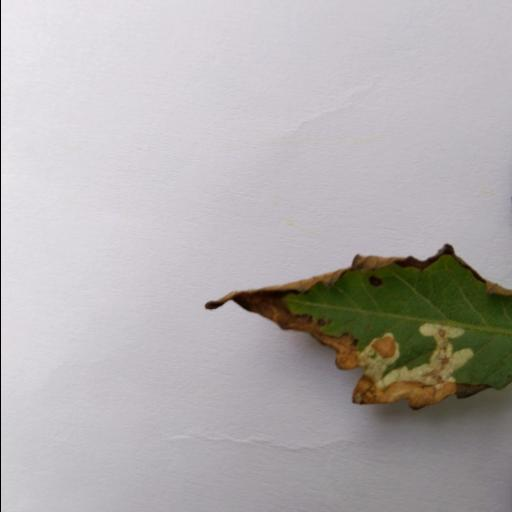disease_tomato: (232, 242, 512, 410)
